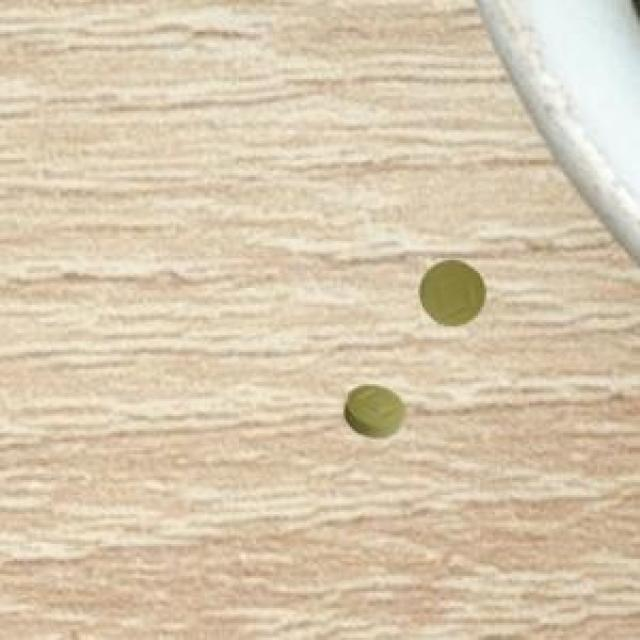Decolgen: (410, 251, 498, 334), (335, 372, 415, 446)
